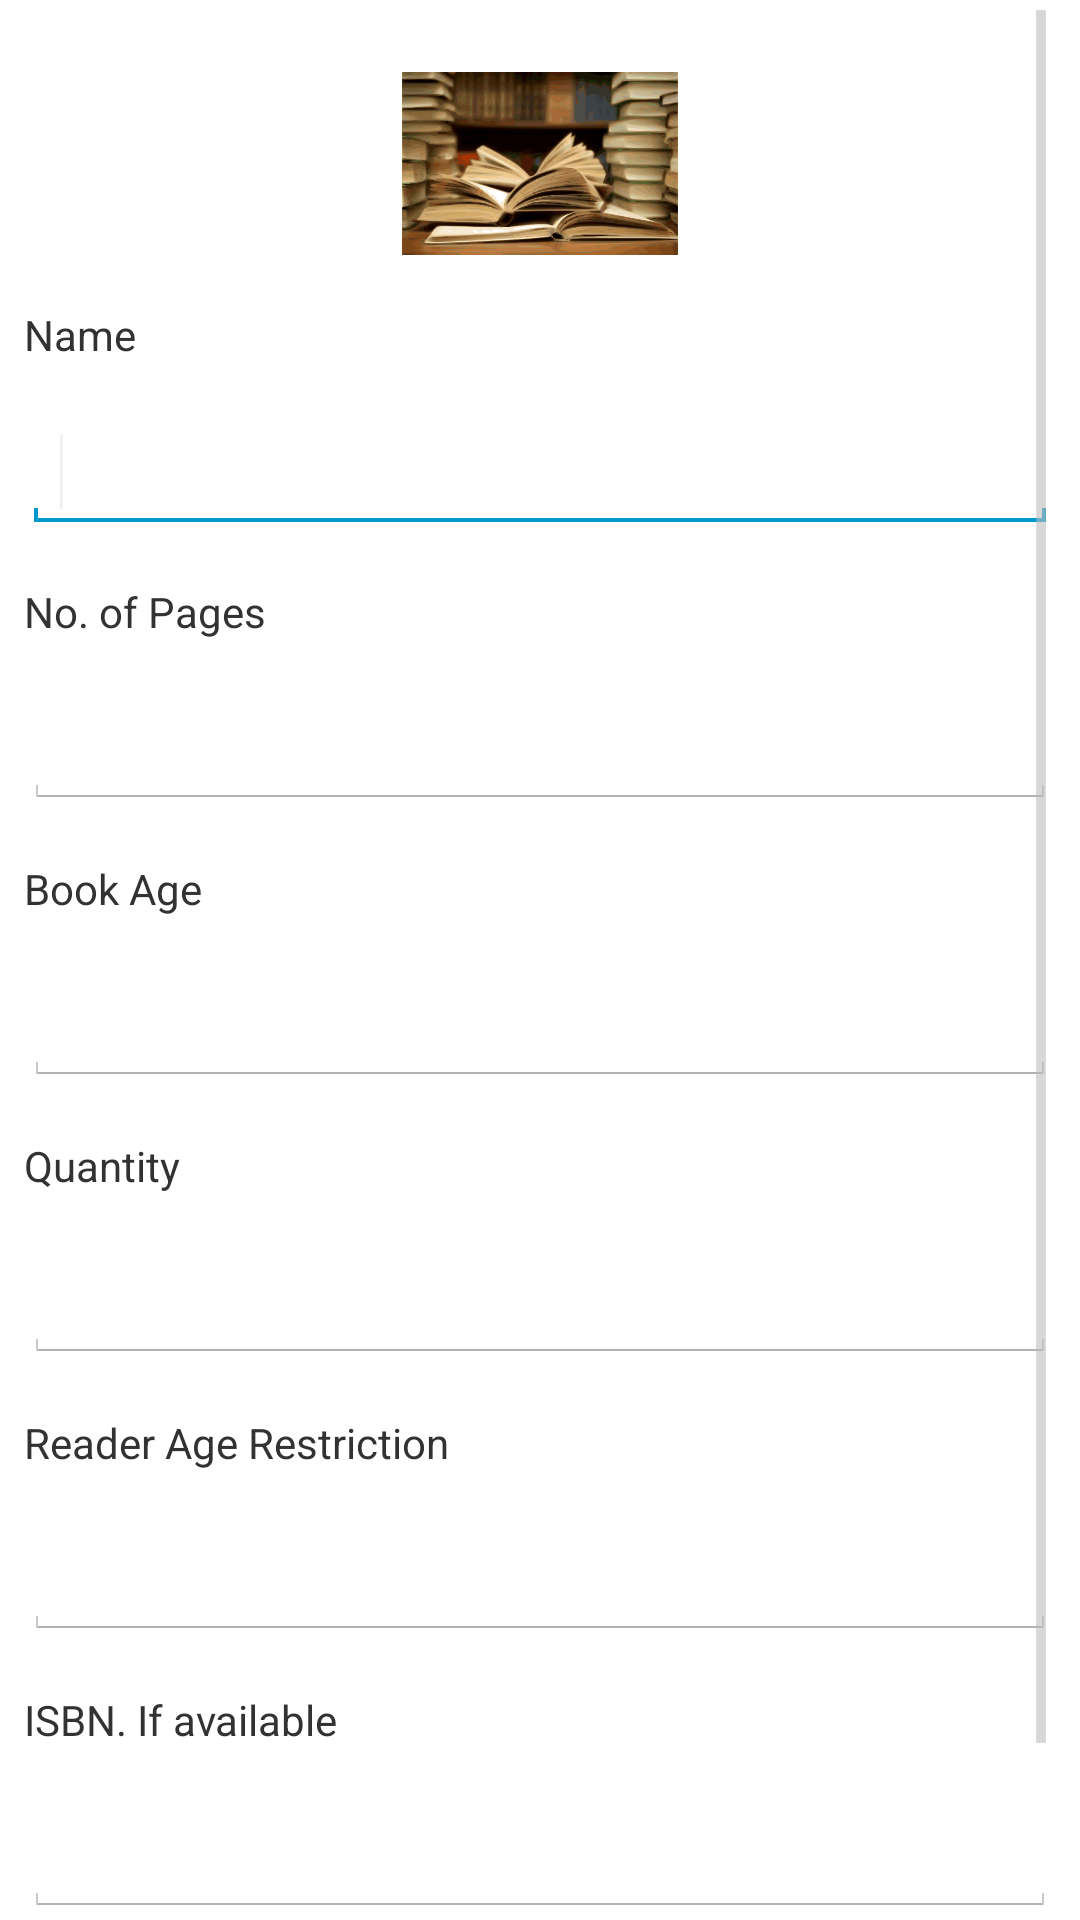

Icons on this 1080 × 1920 Android screen, each with the point to tap as point (x, y):
books: point (540, 163)
